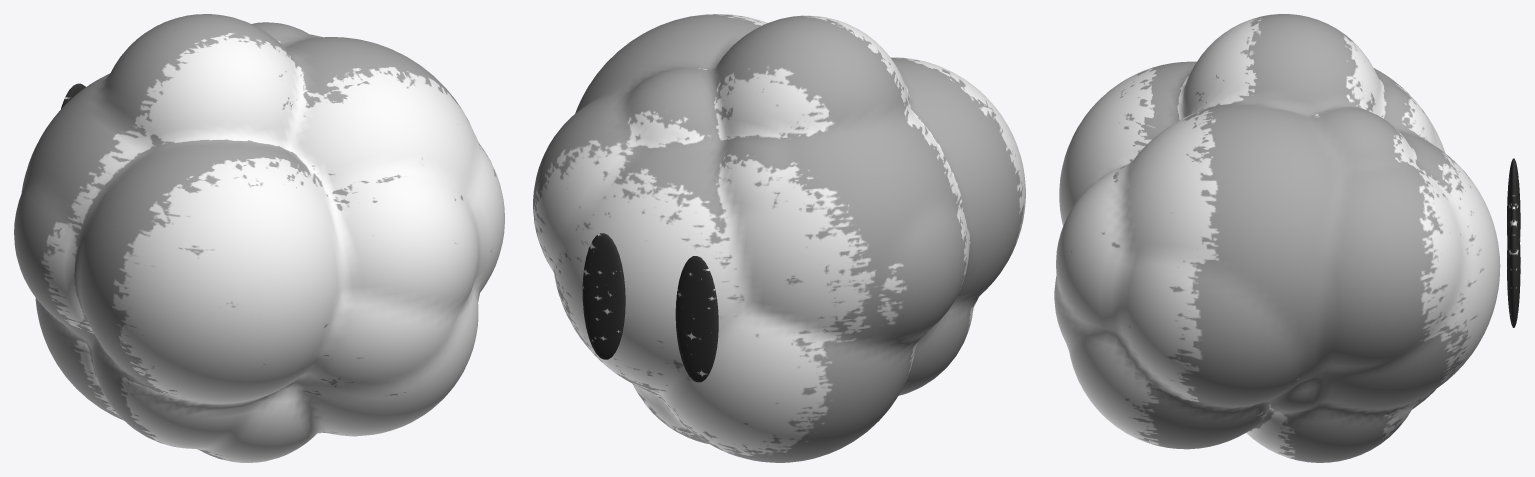
File: ARCloud.fbx
3 renders of one model, left to right at view 1: azimuth 30°, elevation 25°; view 2: azimuth 150°, elevation 25°; view 3: azimuth 270°, elevation 25°, orthographic. The views are drawn at different scales.
Parts seen in each view (by area): view 1: Cloud Enemy; view 2: Cloud Enemy, Eyes; view 3: Cloud Enemy, Eyes.
Part boxes in pixels (left/top/right/bottom): Cloud Enemy: left=14, top=14, right=504, bottom=462; Cloud Enemy: left=533, top=14, right=1025, bottom=462; Eyes: left=582, top=233, right=718, bottom=382; Cloud Enemy: left=1054, top=14, right=1500, bottom=462; Eyes: left=1507, top=158, right=1520, bottom=327.
Size of the model in its own units: 596 by 575 by 604.
